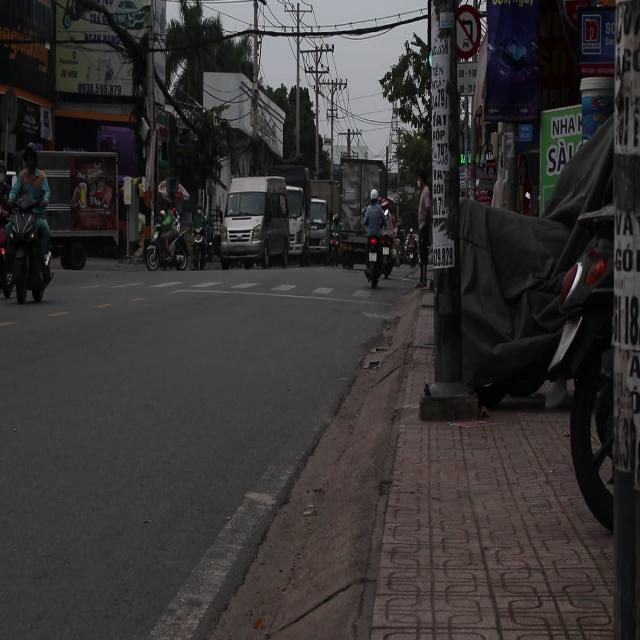car: (301, 197, 330, 260)
motorbike: (1, 197, 54, 305), (145, 223, 191, 273), (364, 232, 396, 288), (190, 220, 212, 272), (325, 221, 341, 269)
truck: (220, 176, 298, 268), (268, 166, 312, 260)
